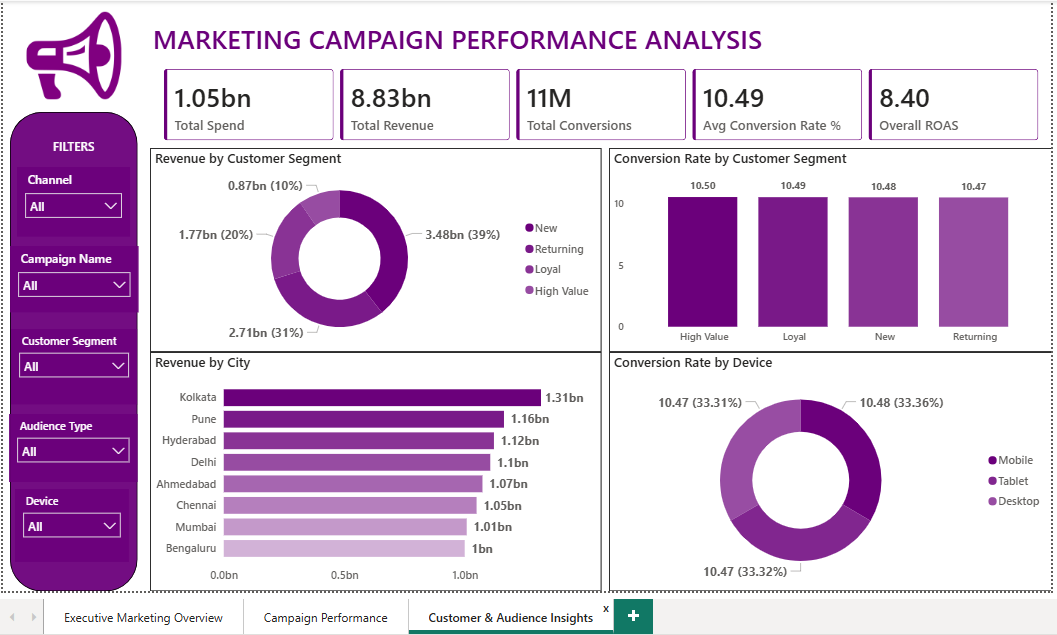

Layout of this report page (visuals, bound fields, positions):
{"tool":"powerbi","page":{"name":"Customer & Audience Insights","canvas":[1280,720],"ordinal":2},"visuals":[{"type":"image","box":[8.5,8.5,156.2,115.9],"z":0},{"type":"shape","box":[8.3,134.9,155.5,584.9],"z":1000},{"type":"slicer","fields":{"Values":["cleaned_campaigns.Channel"]},"box":[16.5,202.3,137.6,85.3],"z":2000},{"type":"slicer","fields":{"Values":["cleaned_campaigns.Campaign_Name"]},"box":[8.3,298.7,156.9,81.2],"z":3000},{"type":"slicer","fields":{"Values":["cleaned_customers.Customer_Segment"]},"box":[9.6,400.5,154.2,92.2],"z":4000},{"type":"slicer","fields":{"Values":["cleaned_performance.Audience_Type"]},"box":[6.9,503.7,156.9,82.6],"z":5000},{"type":"slicer","fields":{"Values":["cleaned_performance.Device"]},"box":[15.1,596,139,89.5],"z":6000},{"type":"textbox","box":[178.7,18.7,1101.3,65.3],"z":7000},{"type":"cardVisual","fields":{"Data":["cleaned_performance.Total Spend","cleaned_performance.Total Revenue","cleaned_performance.Total Conversions","cleaned_performance.Avg Conversion Rate","cleaned_performance.Overall ROAS"]},"box":[178.9,66.1,1101.1,121.1],"z":8000},{"type":"donutChart","title":"Revenue by Customer Segment","fields":{"Y":["cleaned_performance.Total Revenue"],"Category":["cleaned_customers.Customer_Segment"]},"box":[178.9,178.9,550.5,249.1],"z":9000},{"type":"columnChart","title":"Conversion Rate by Customer Segment","fields":{"Category":["cleaned_customers.Customer_Segment"],"Y":["cleaned_performance.Conversion Rate"]},"box":[739.1,178.9,540.9,249.1],"z":10000},{"type":"barChart","title":"Revenue by City","fields":{"Category":["cleaned_customers.City"],"Y":["cleaned_performance.Total Revenue"]},"box":[179,428,551,292],"z":11000},{"type":"donutChart","fields":{"Category":["cleaned_performance.Device"],"Y":["cleaned_performance.Conversion Rate"]},"box":[739,428,541,292],"z":12000}]}

Visuals, with their boxes on the page's 1280x720 design canvas (x1, y1, x2, y2). These are canvas units, not pixel positions in the 1057x635 screenshot, which may show the page scaled, cropped or inside an application window:
image: (x1=8, y1=8, x2=165, y2=124)
shape: (x1=8, y1=135, x2=164, y2=720)
slicer - cleaned_campaigns.Channel: (x1=16, y1=202, x2=154, y2=288)
slicer - cleaned_campaigns.Campaign_Name: (x1=8, y1=299, x2=165, y2=380)
slicer - cleaned_customers.Customer_Segment: (x1=10, y1=400, x2=164, y2=493)
slicer - cleaned_performance.Audience_Type: (x1=7, y1=504, x2=164, y2=586)
slicer - cleaned_performance.Device: (x1=15, y1=596, x2=154, y2=686)
textbox: (x1=179, y1=19, x2=1280, y2=84)
cardVisual - cleaned_performance.Total Spend x cleaned_performance.Total Revenue: (x1=179, y1=66, x2=1280, y2=187)
"Revenue by Customer Segment" donutChart: (x1=179, y1=179, x2=729, y2=428)
"Conversion Rate by Customer Segment" columnChart: (x1=739, y1=179, x2=1280, y2=428)
"Revenue by City" barChart: (x1=179, y1=428, x2=730, y2=720)
donutChart - cleaned_performance.Device x cleaned_performance.Conversion Rate: (x1=739, y1=428, x2=1280, y2=720)
